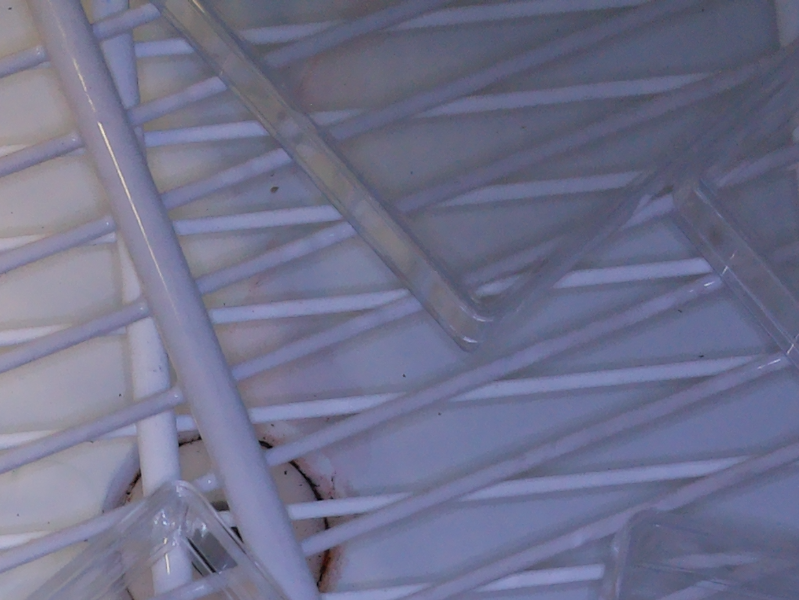plate: (128, 1, 799, 356), (654, 45, 799, 357), (32, 473, 305, 600), (600, 505, 799, 600)
